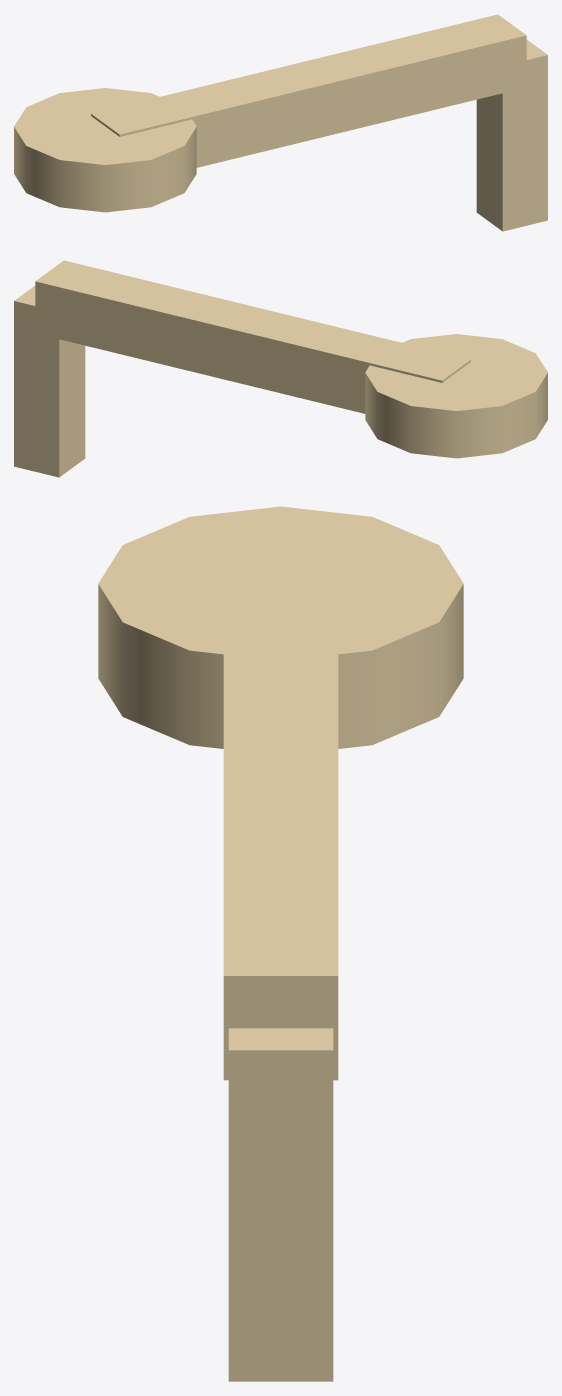
Rendered from SM_Faucet_Wall.fbx.
The picture shows the model from 3 angles, top to bottom: view 1: azimuth 30°, elevation 25°; view 2: azimuth 150°, elevation 25°; view 3: azimuth 270°, elevation 25°; orthographic projection. The views are drawn at different scales.
Visible parts, largest first — view 1: SM_Faucet_Wall; view 2: SM_Faucet_Wall; view 3: SM_Faucet_Wall.
Part boxes in pixels (x1,y1,x2,y2): SM_Faucet_Wall: (14, 14, 547, 231); SM_Faucet_Wall: (14, 260, 547, 477); SM_Faucet_Wall: (98, 506, 463, 1381).
Size of the model in its own units: 22.5 by 8.1 by 7.
